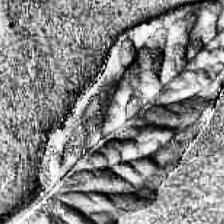leaf mold: (42, 0, 224, 224)
